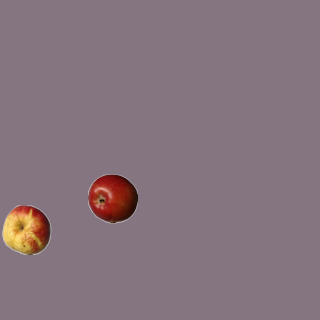Apple Braeburn: (87, 173, 137, 223)
Apple Red Yellow 1: (1, 204, 51, 254)
